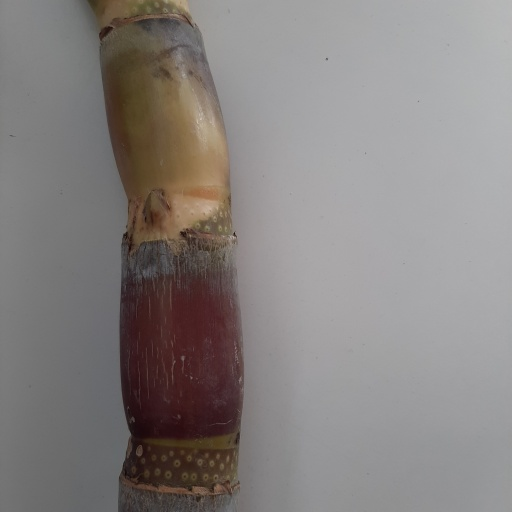Bud: (142, 189, 170, 225)
